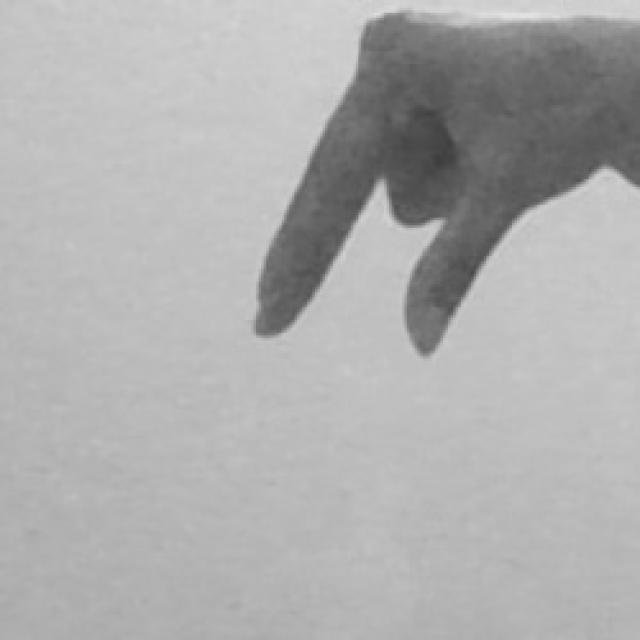Q: (235, 0, 640, 366)
